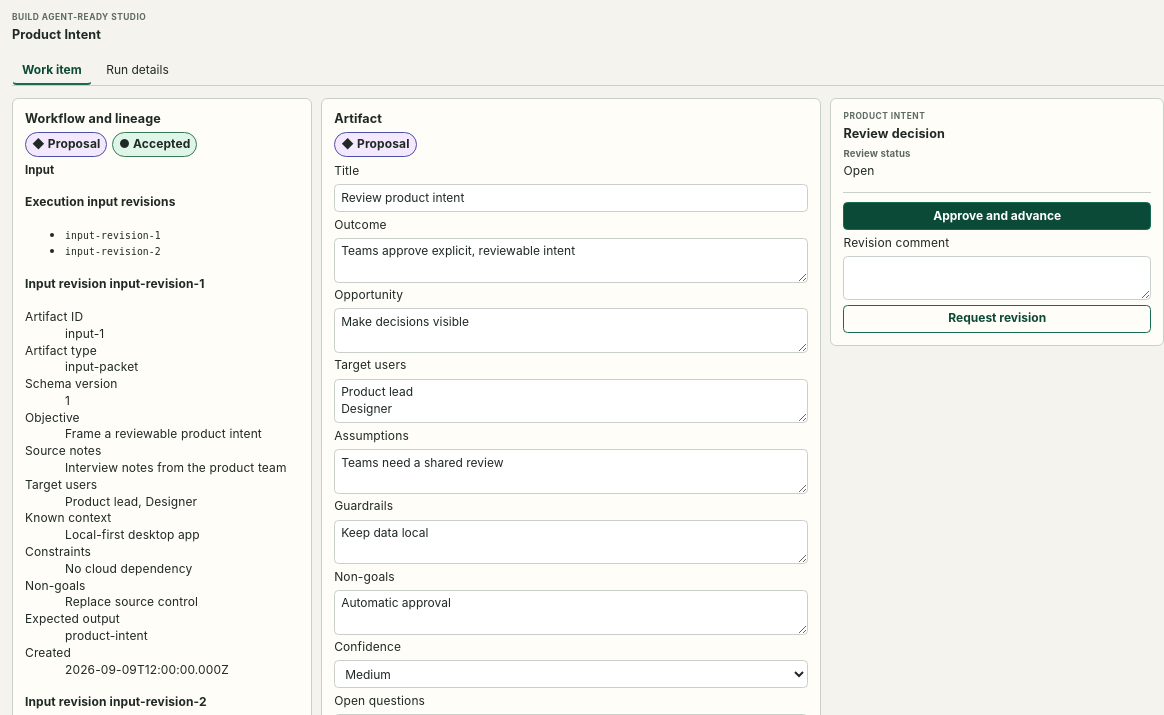
Scenario: WorkItemStudio › AC-15 and AC-26 render three review regions and reveal run details only from its tab
This screenshot has width=1164, height=715.
Expected: the element named "Review and decision" is shown, top-left (830, 98), bottom-right (1163, 346)
Expected: the heading "Review decision" is shown, top-left (844, 126), bottom-right (945, 141)
Step 1. Click the tab "Run details" → (137, 71), box top-left (96, 57), bottom-right (179, 85)
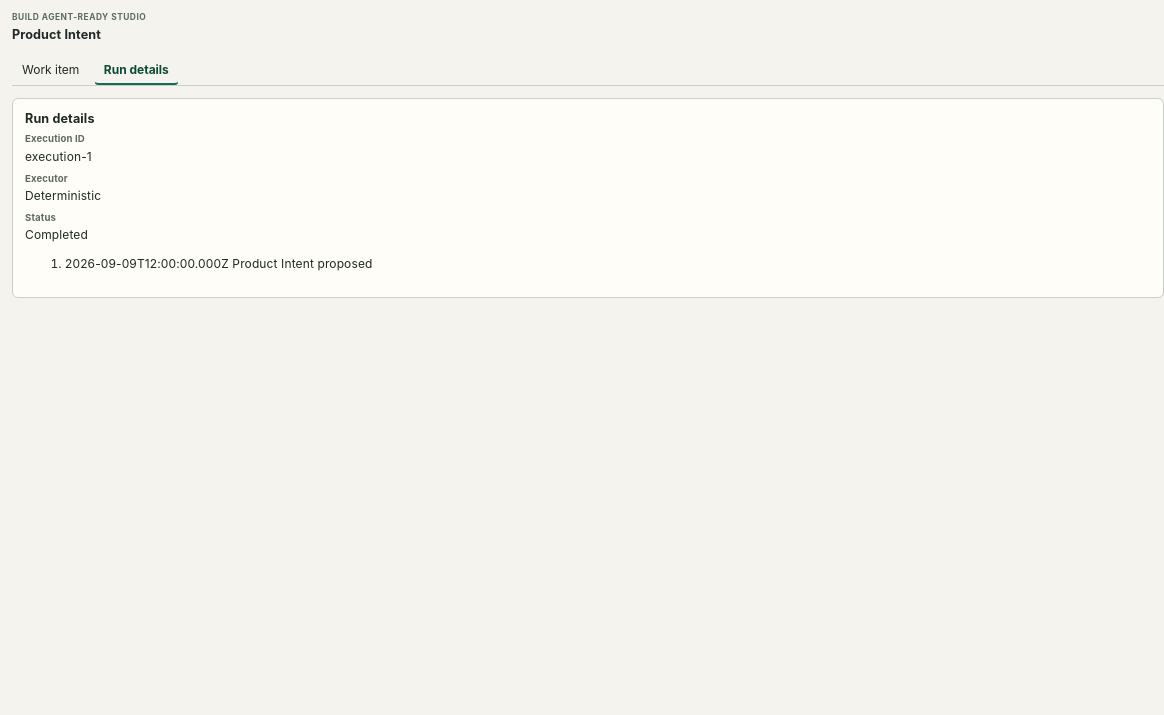
Result: the text "execution-1" is shown at top-left (25, 149), bottom-right (92, 164)
Result: the text "Artifact" is gone
